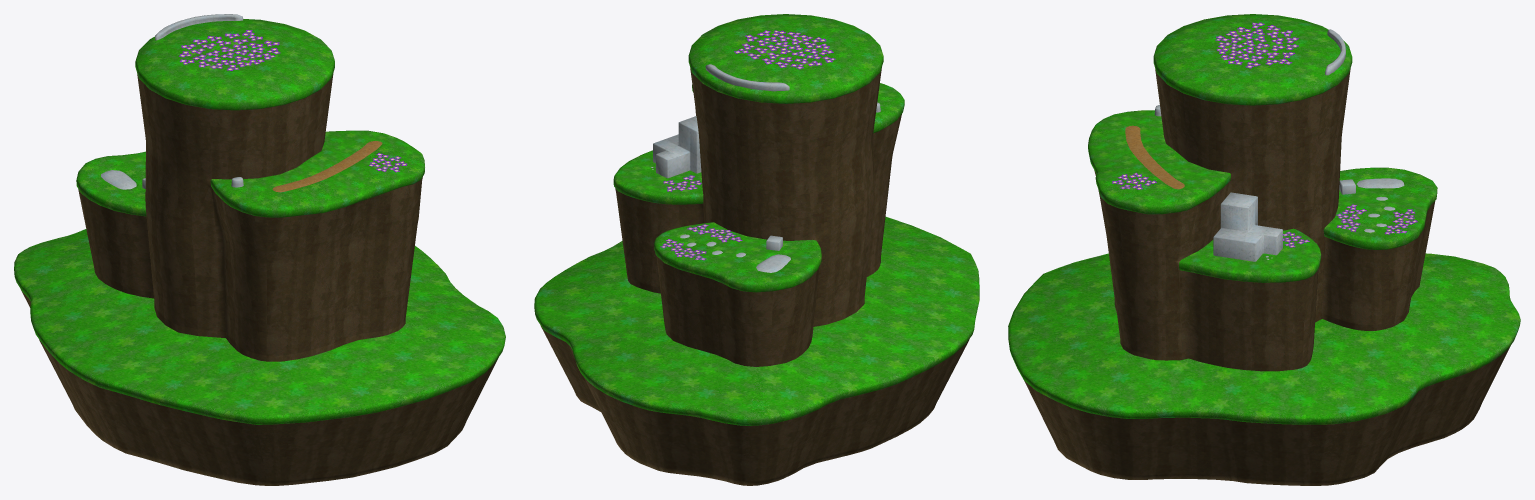
File: HikeGardenMountainPlanet.fbx
3 renders of one model, left to right at view 1: azimuth 30°, elevation 25°; view 2: azimuth 150°, elevation 25°; view 3: azimuth 270°, elevation 25°, orthographic. The views are drawn at different scales.
Parts seen in each view (by area): view 1: Circle.001, Circle.002, Circle.004, Circle.003, Circle.000; view 2: Circle.001, Circle.002, Circle.003, Circle.004; view 3: Circle.002, Circle.001, Circle.003, Circle.004, Circle.000.
Boxes of the visible parts, left/top/right/bottom form: Circle.001: left=21, top=73, right=498, bottom=485; Circle.002: left=14, top=19, right=505, bottom=424; Circle.004: left=179, top=30, right=407, bottom=172; Circle.003: left=101, top=14, right=243, bottom=189; Circle.000: left=272, top=141, right=382, bottom=192; Circle.001: left=540, top=67, right=969, bottom=485; Circle.002: left=534, top=14, right=979, bottom=425; Circle.003: left=651, top=64, right=880, bottom=272; Circle.004: left=660, top=30, right=835, bottom=260; Circle.002: left=1008, top=14, right=1520, bottom=424; Circle.001: left=1024, top=68, right=1510, bottom=485; Circle.003: left=1154, top=29, right=1404, bottom=261; Circle.004: left=1112, top=22, right=1417, bottom=247; Circle.000: left=1125, top=125, right=1184, bottom=189.
Size of the model in its own units: 449028 by 396861 by 522347.
